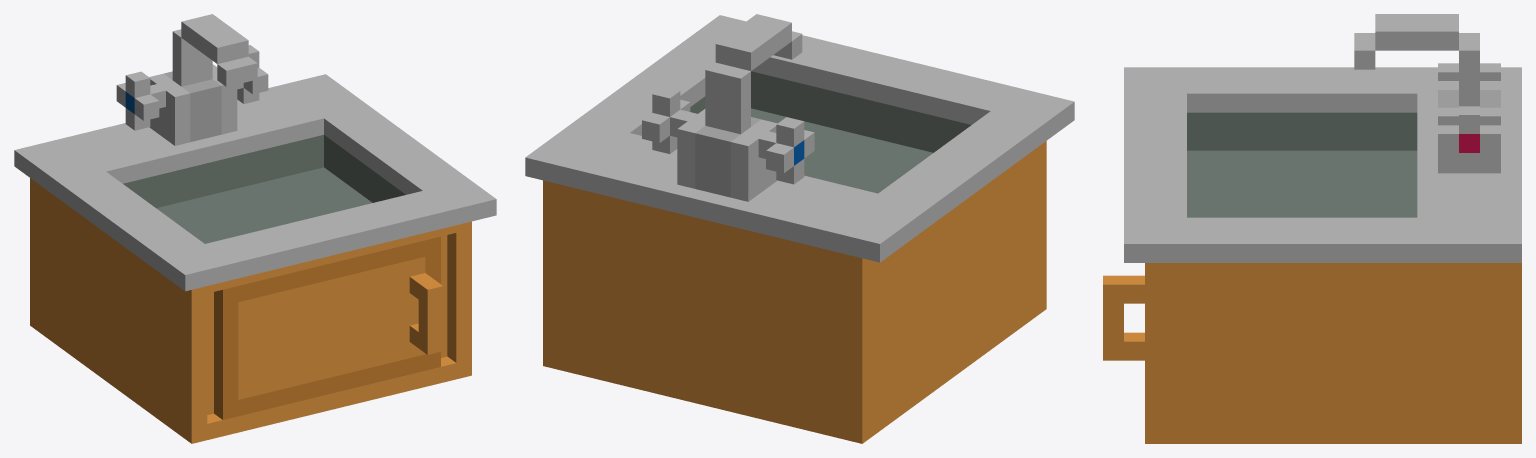
The model's file is obj_sink.obj.
3 renders of one model, left to right at view 1: azimuth 30°, elevation 25°; view 2: azimuth 150°, elevation 25°; view 3: azimuth 270°, elevation 25°, orthographic. The views are drawn at different scales.
Visible parts, largest first — view 1: obj_sink; view 2: obj_sink; view 3: obj_sink.
Part boxes in pixels (x1,y1,x2,y2): obj_sink: [14, 14, 496, 443]; obj_sink: [525, 14, 1074, 443]; obj_sink: [1103, 14, 1521, 443].
Bounding box in the file's own units: 20 × 18 × 20.
1 material, 1 textured.
